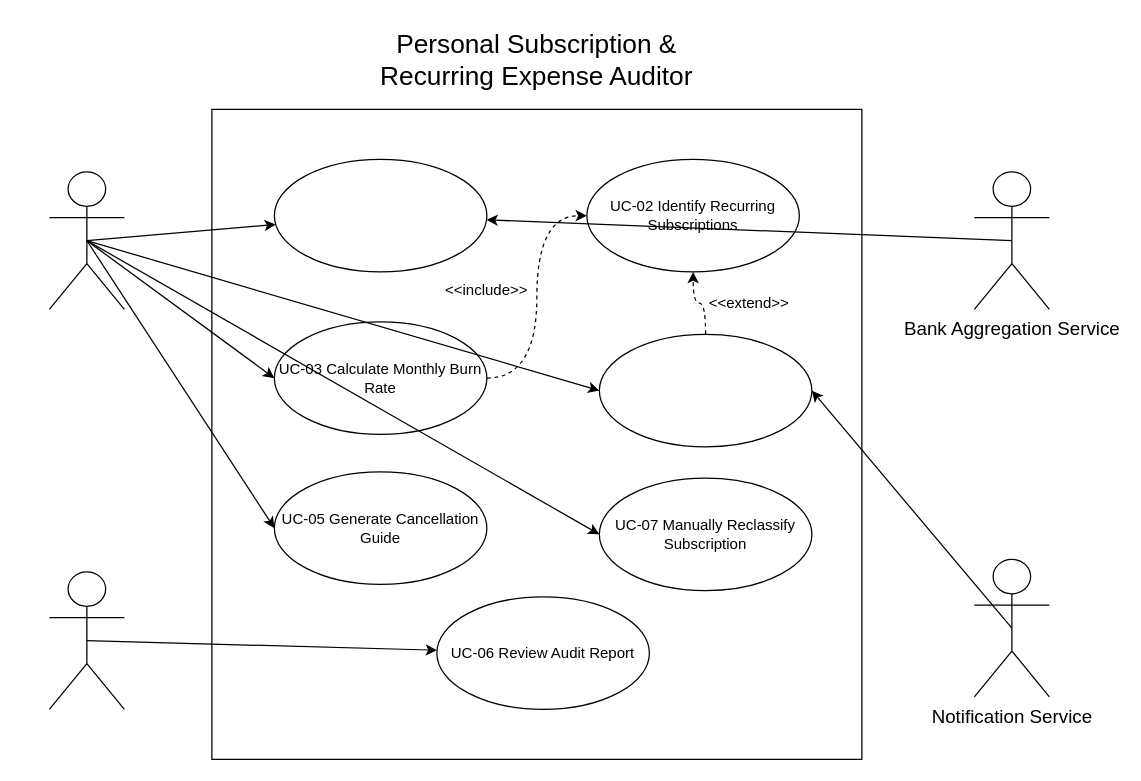
This 1141x781 diagram has some shape labels left out. Here are the shapes that lost their labels. From the top down, the box of each, then its label:
(273, 158, 487, 272): UC-01 Import Bank Transactions
(48, 171, 124, 309): Individual User
(598, 333, 812, 447): UC-04 Send Renewal Alert
(48, 571, 124, 709): Finance Auditor
